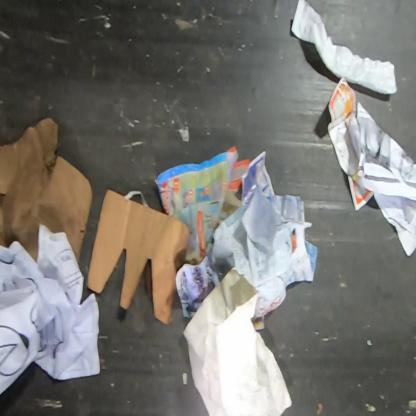cardboard: (85, 188, 190, 326), (0, 117, 94, 264)
soft_plastic: (291, 0, 398, 95)
